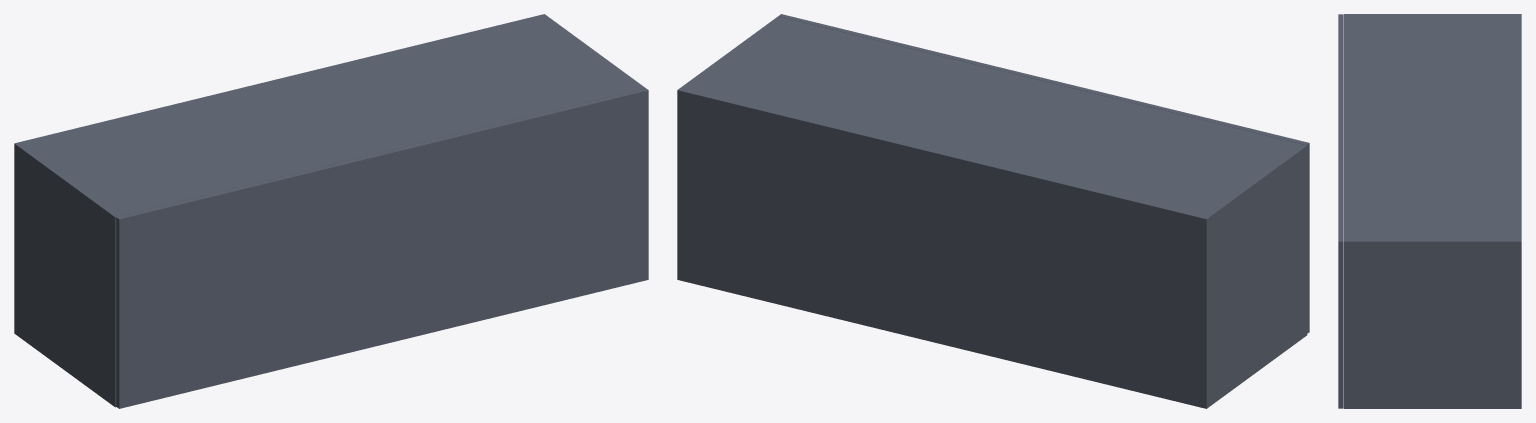
The model's file is SideDollab.fbx.
The picture shows the model from 3 angles, left to right: view 1: azimuth 30°, elevation 25°; view 2: azimuth 150°, elevation 25°; view 3: azimuth 270°, elevation 25°; orthographic projection. The views are drawn at different scales.
Visible parts, largest first — view 1: Cabinet1_Door.013, Cabinet1.019; view 2: Cabinet1.019, Cabinet1_Door.013; view 3: Cabinet1.019, Cabinet1_Door.013.
Boxes of the visible parts, <box> form: Cabinet1_Door.013: <box>116,88,648,408</box>; Cabinet1.019: <box>14,14,644,407</box>; Cabinet1.019: <box>677,16,1307,408</box>; Cabinet1_Door.013: <box>778,14,1309,333</box>; Cabinet1.019: <box>1344,14,1521,408</box>; Cabinet1_Door.013: <box>1338,14,1343,408</box>.
Bounding box in the file's own units: 107 × 36.81 × 36.58.
